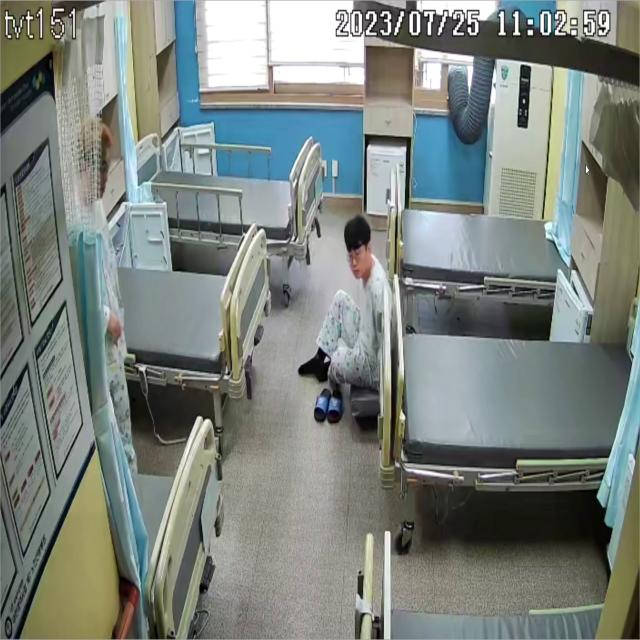bed: (377, 275, 629, 498), (387, 154, 573, 310), (107, 227, 270, 393), (152, 142, 320, 257)
danger: (297, 213, 396, 380)
patient: (298, 218, 398, 388)
